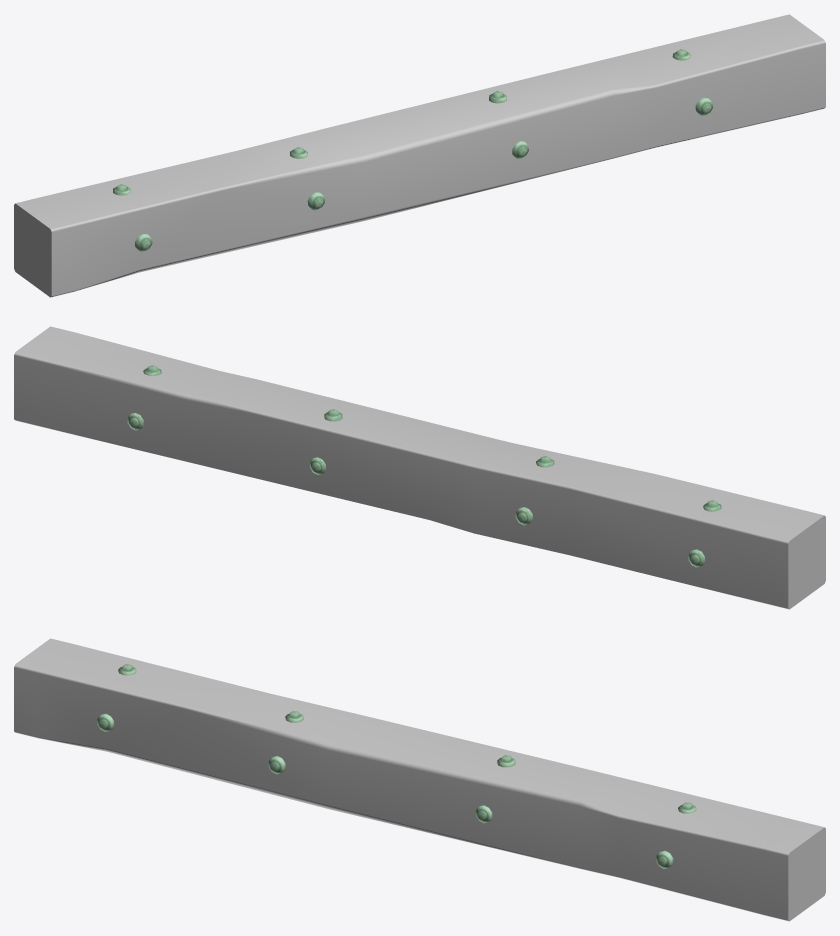
The picture shows the model from 3 angles, top to bottom: view 1: azimuth 30°, elevation 25°; view 2: azimuth 150°, elevation 25°; view 3: azimuth 330°, elevation 25°; orthographic projection.
Parts seen in each view (by area): view 1: SM_BB_T4_Beam_Thin_Large_Horizontal_LOD0; view 2: SM_BB_T4_Beam_Thin_Large_Horizontal_LOD0; view 3: SM_BB_T4_Beam_Thin_Large_Horizontal_LOD0.
Part boxes in pixels (<box>): SM_BB_T4_Beam_Thin_Large_Horizontal_LOD0: <box>14,14,825,297</box>; SM_BB_T4_Beam_Thin_Large_Horizontal_LOD0: <box>14,326,825,609</box>; SM_BB_T4_Beam_Thin_Large_Horizontal_LOD0: <box>14,638,825,921</box>.
Size of the model in its own units: 3 by 0.3031 by 0.3031.
